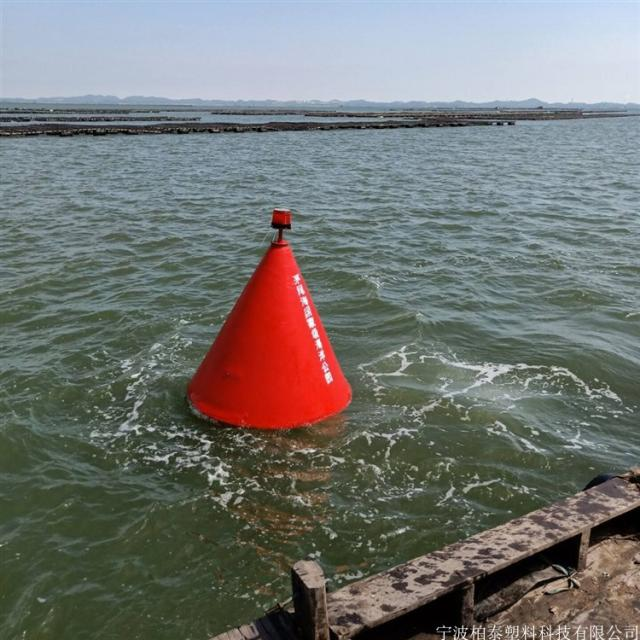buoy: (180, 207, 349, 433)
